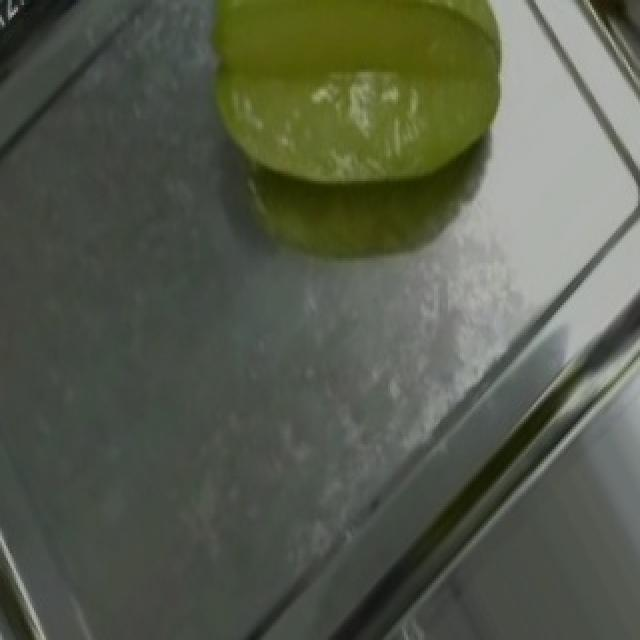fruit: (166, 0, 552, 268)
